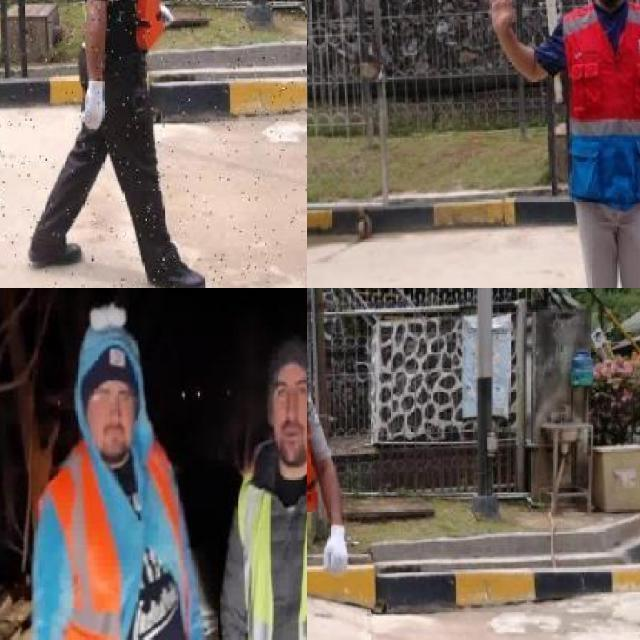apron: (76, 70, 107, 133), (323, 516, 351, 576), (157, 2, 180, 30)
